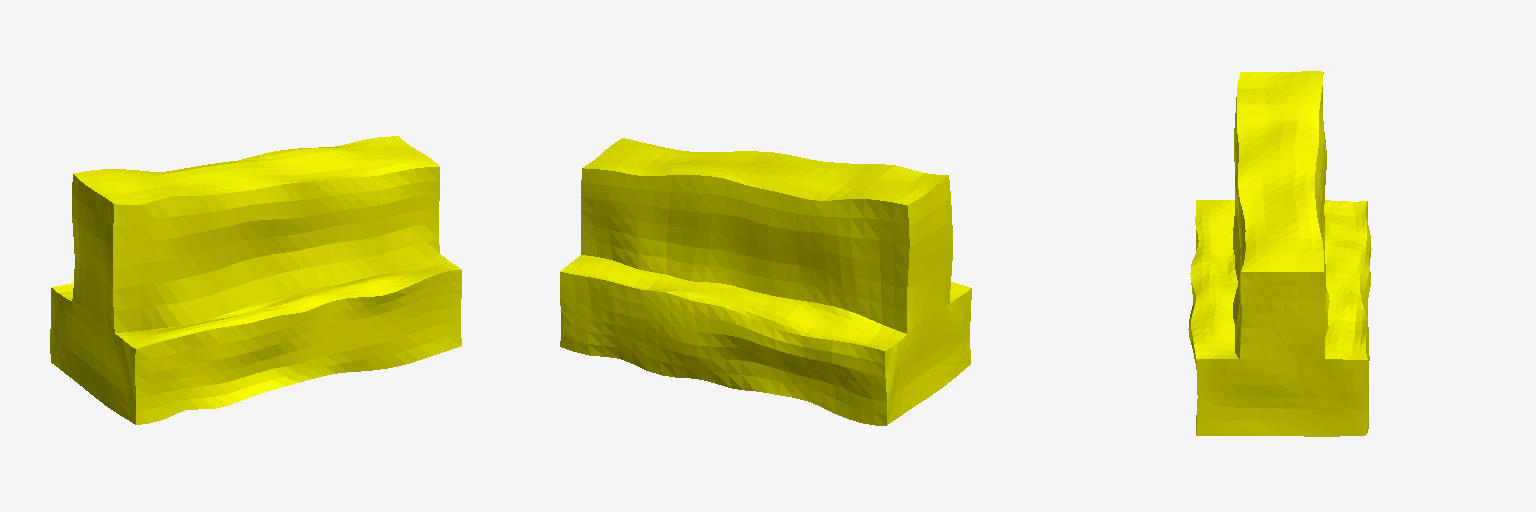
The model's file is T_Parallelisme.obj.
The picture shows the model from 3 angles: view 1: azimuth 30°, elevation 25°; view 2: azimuth 150°, elevation 25°; view 3: azimuth 270°, elevation 25°; orthographic projection.
Parts seen in each view (by area): view 1: Plane.001_Plane.002; view 2: Plane.001_Plane.002; view 3: Plane.001_Plane.002.
Part boxes in pixels (x1,y1,x2,y2): Plane.001_Plane.002: (50,136,461,424); Plane.001_Plane.002: (560,138,971,425); Plane.001_Plane.002: (1188,71,1371,436).
Size of the model in its own units: 4.43 by 2.72 by 2.13.